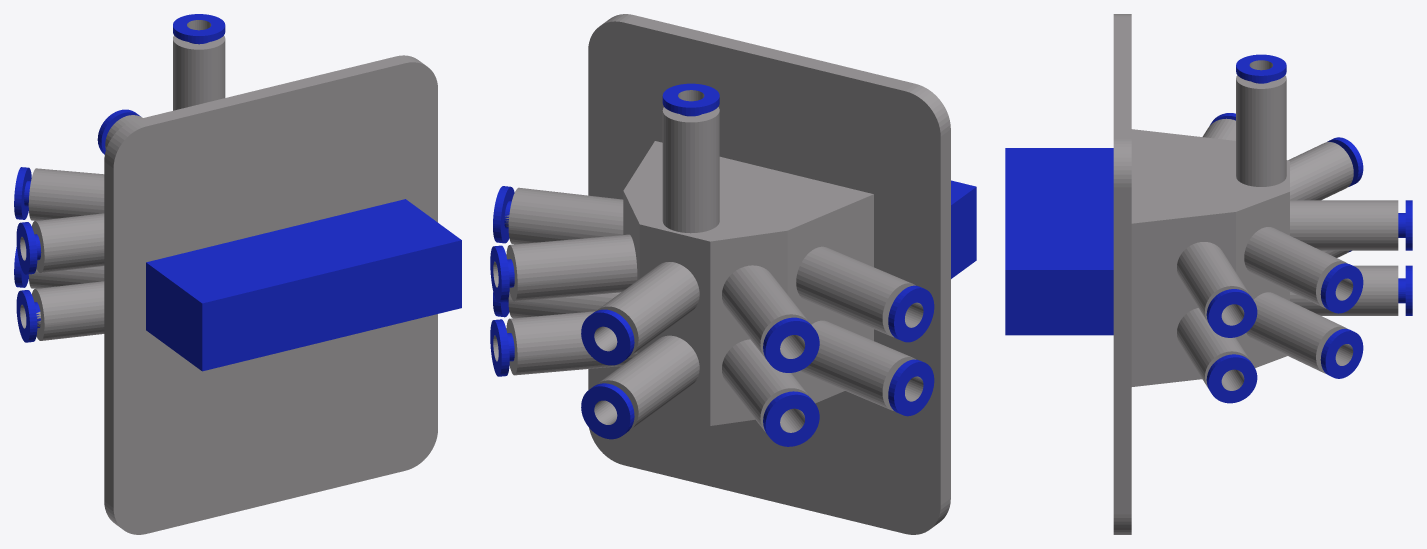
File: SAI2092.glb
The picture shows the model from 3 angles, left to right: view 1: azimuth 30°, elevation 25°; view 2: azimuth 150°, elevation 25°; view 3: azimuth 270°, elevation 25°; orthographic projection. The views are drawn at different scales.
Parts seen in each view (by area): view 1: SAI2092; view 2: SAI2092; view 3: SAI2092.
Boxes of the visible parts, left/top/right/bottom form: SAI2092: left=14, top=14, right=461, bottom=534; SAI2092: left=490, top=14, right=976, bottom=534; SAI2092: left=1005, top=14, right=1412, bottom=534.
Bounding box in the file's own units: 60.51 × 62 × 56.47.
